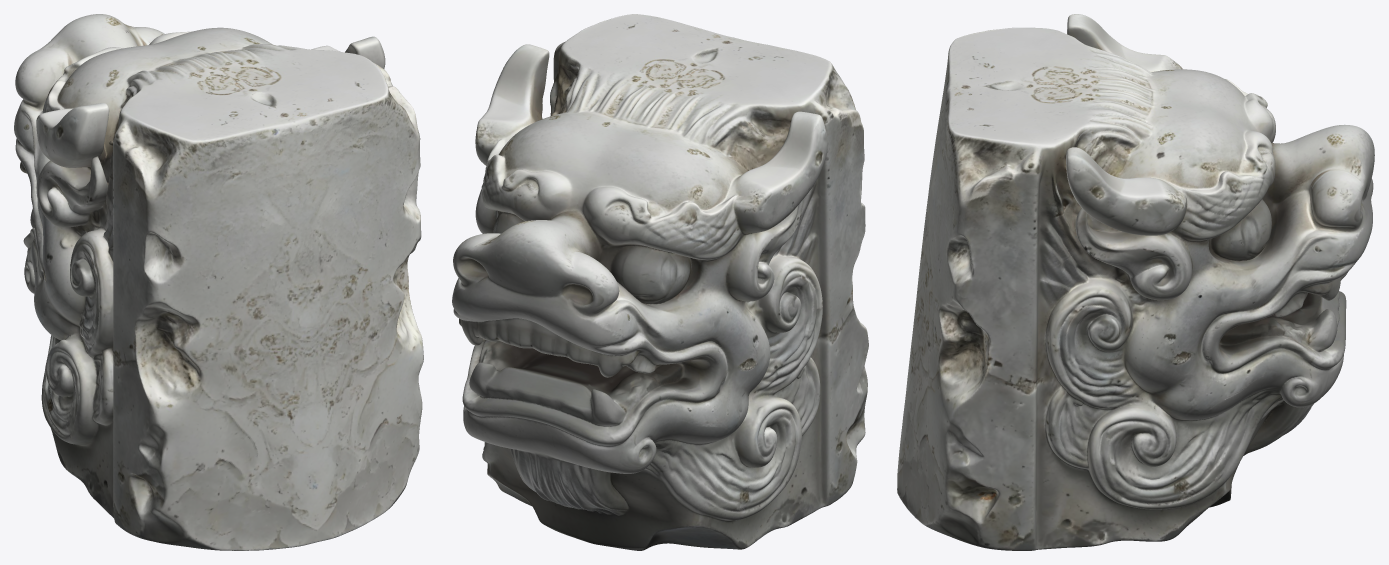
File: dragon.glb
3 renders of one model, left to right at view 1: azimuth 30°, elevation 25°; view 2: azimuth 150°, elevation 25°; view 3: azimuth 270°, elevation 25°, orthographic.
Visible parts, largest first — view 1: tripo_node_f7c9a918-7e20-423d-9f92-7a3985de28ac; view 2: tripo_node_f7c9a918-7e20-423d-9f92-7a3985de28ac; view 3: tripo_node_f7c9a918-7e20-423d-9f92-7a3985de28ac.
Part boxes in pixels (x1,y1,x2,y2): tripo_node_f7c9a918-7e20-423d-9f92-7a3985de28ac: [14, 14, 423, 550]; tripo_node_f7c9a918-7e20-423d-9f92-7a3985de28ac: [452, 14, 868, 550]; tripo_node_f7c9a918-7e20-423d-9f92-7a3985de28ac: [897, 14, 1374, 550].
Bounding box in the file's own units: 0.7698 × 0.9461 × 1.01.
Materials: 1 (1 with a texture image).
